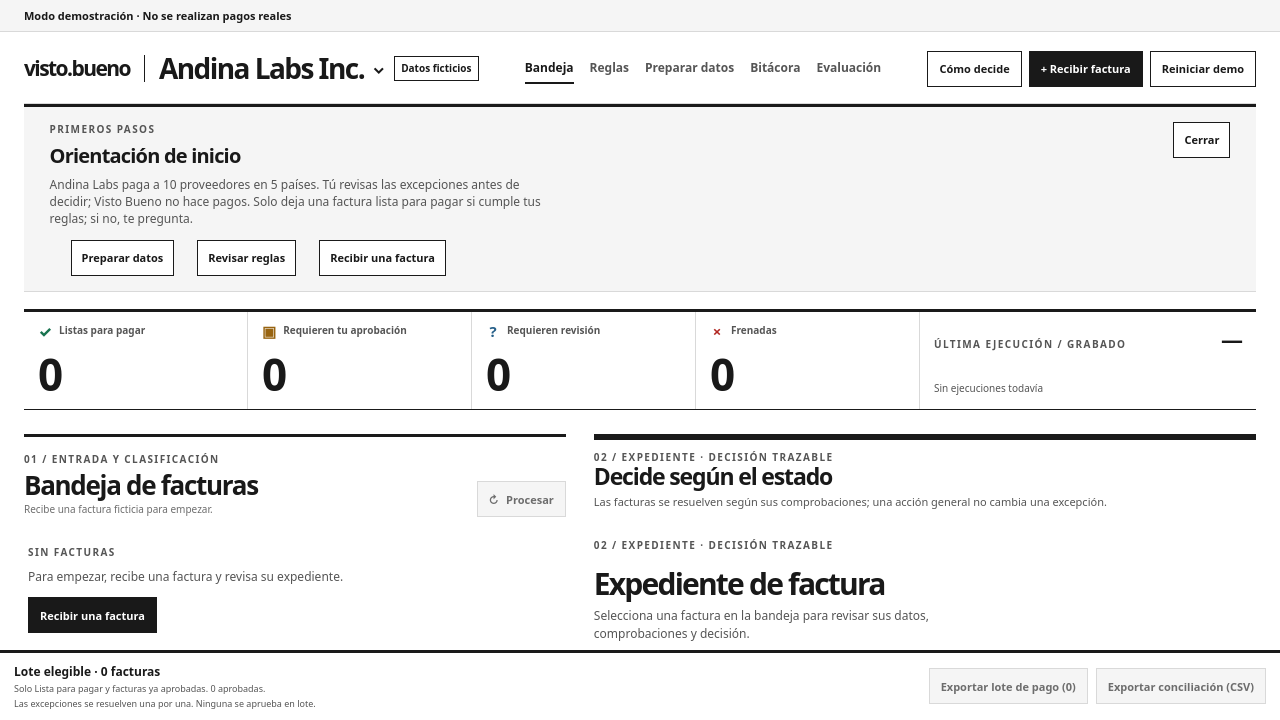
Test: App first-run and evaluation integration › shows an error state for non-503 evaluation failures
This screenshot has width=1280, height=720.
Expected: the heading "Andina Labs Inc. ⌄" is shown, [159,46,385,90]
Click the link "Evaluación". click: (849, 67)
box: [816,59,881,76]
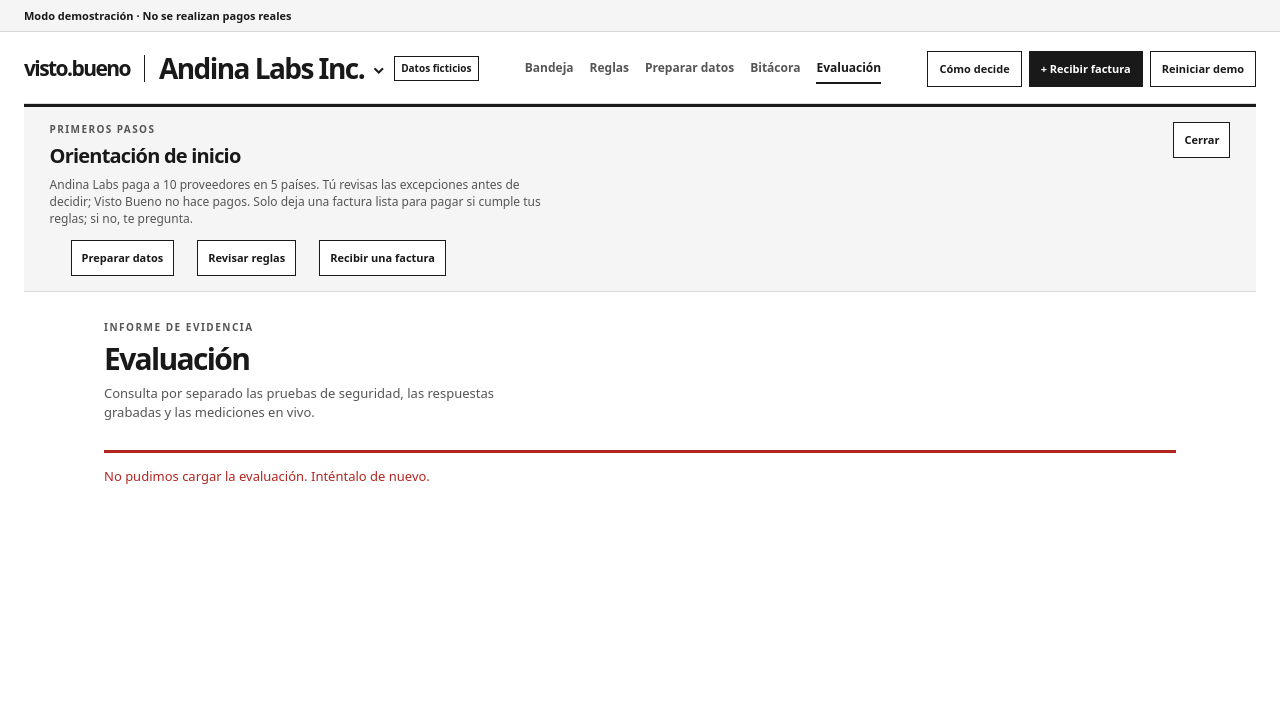
Result: the message reads "No pudimos cargar la evaluación. Inténtalo de nuevo." at [104,467,430,485]
